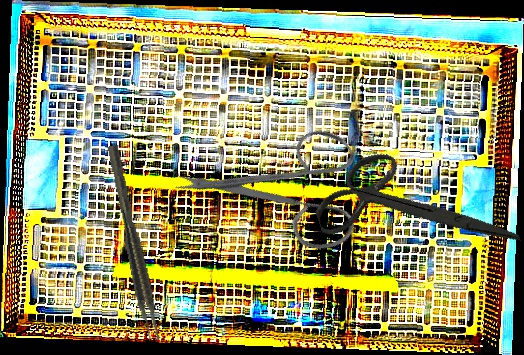Iris Scissors: (167, 83, 394, 305), (303, 117, 522, 303)
Tissue Forceps: (106, 143, 163, 343)
